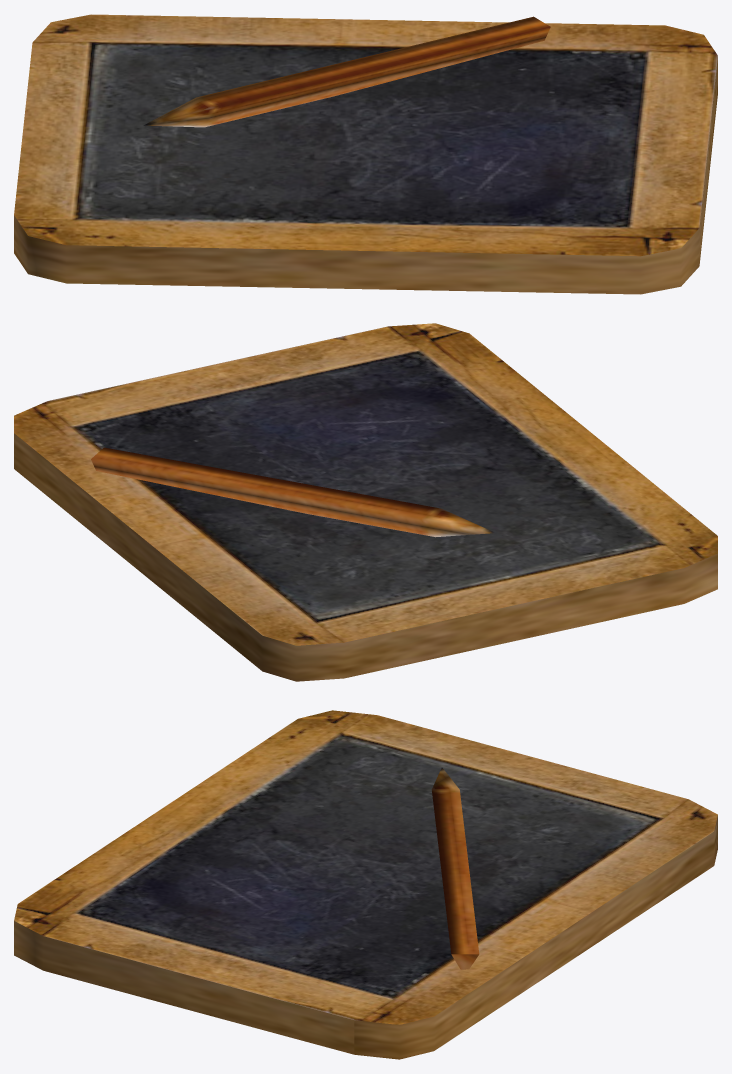
File: SchoolSlate.FBX
3 views of the same model, one above another, from view 1: azimuth 30°, elevation 25°; view 2: azimuth 150°, elevation 25°; view 3: azimuth 270°, elevation 25° (orthographic). The views are drawn at different scales.
Visible parts, largest first — view 1: schoolSlate, Pencil; view 2: schoolSlate, Pencil; view 3: schoolSlate, Pencil.
Part boxes in pixels (x1,y1,x2,y2): schoolSlate: [14, 14, 717, 294]; Pencil: [143, 16, 550, 127]; schoolSlate: [14, 323, 717, 681]; Pencil: [91, 447, 495, 537]; schoolSlate: [14, 710, 717, 1059]; Pencil: [431, 767, 479, 969].
Size of the model in its own units: 82.38 by 7.48 by 77.9.
